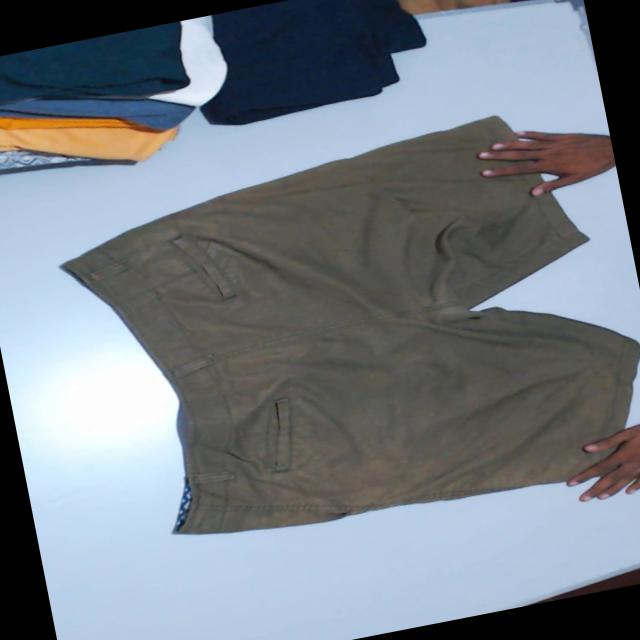new-garment: (60, 117, 639, 534)
